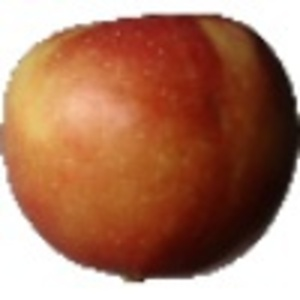maçã braeburn: (1, 13, 300, 283)
